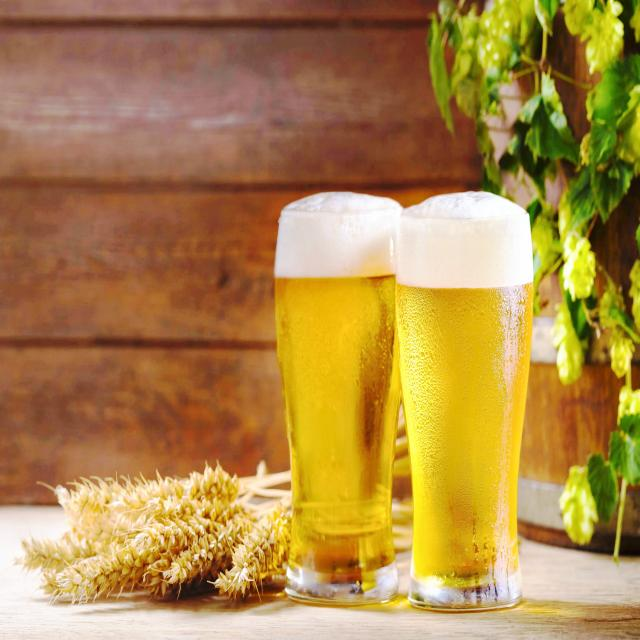drink: (397, 192, 534, 610), (276, 190, 402, 606)
